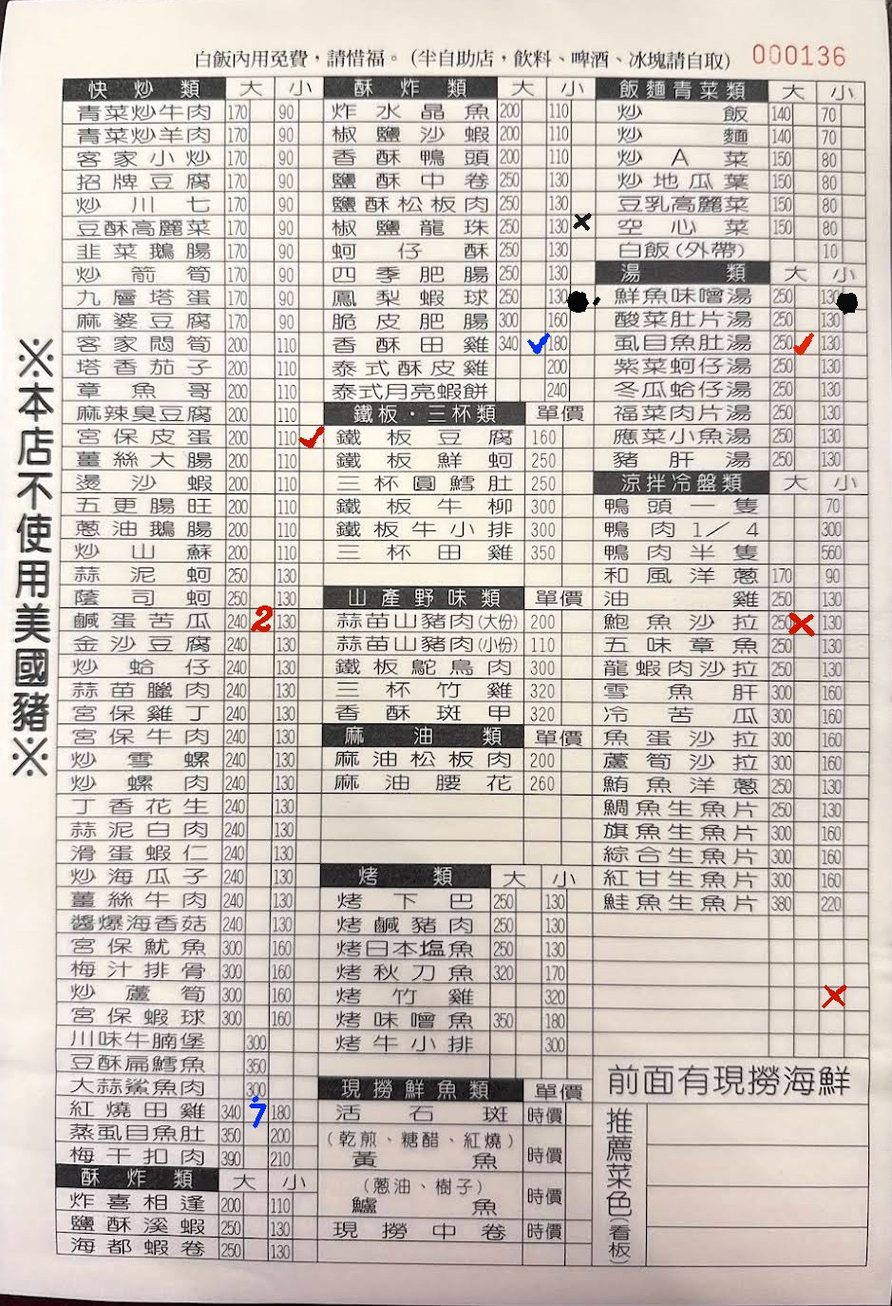marked_circle: (569, 284, 595, 307), (842, 285, 867, 308)
marked_number_2: (247, 608, 273, 631)
marked_number_7: (242, 1100, 268, 1123)
marked_tick: (297, 427, 323, 450), (795, 331, 821, 354), (521, 332, 546, 355)
marked_x: (570, 216, 596, 239), (795, 610, 821, 633), (819, 988, 845, 1010)
